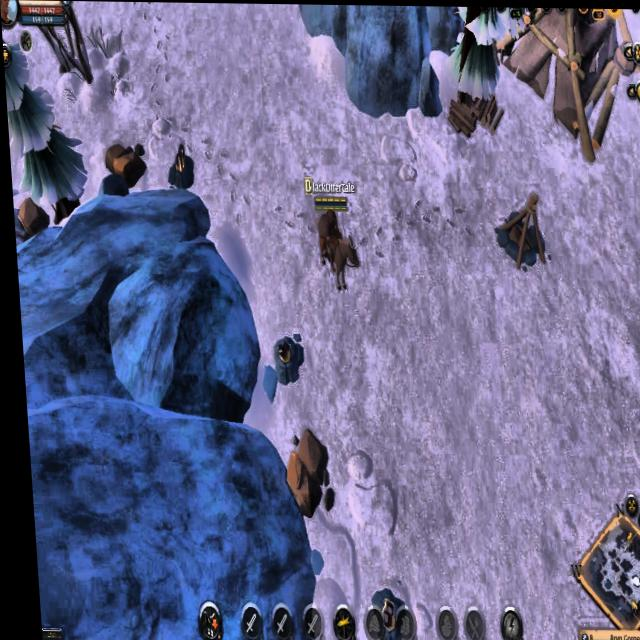copperore: (360, 584, 401, 640), (266, 331, 309, 384), (161, 138, 196, 190)
limestone: (276, 426, 328, 517), (100, 138, 144, 185), (12, 194, 49, 234)
